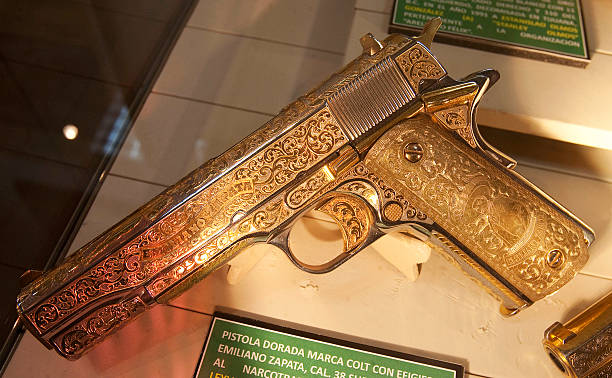pistol: (15, 26, 604, 360)
